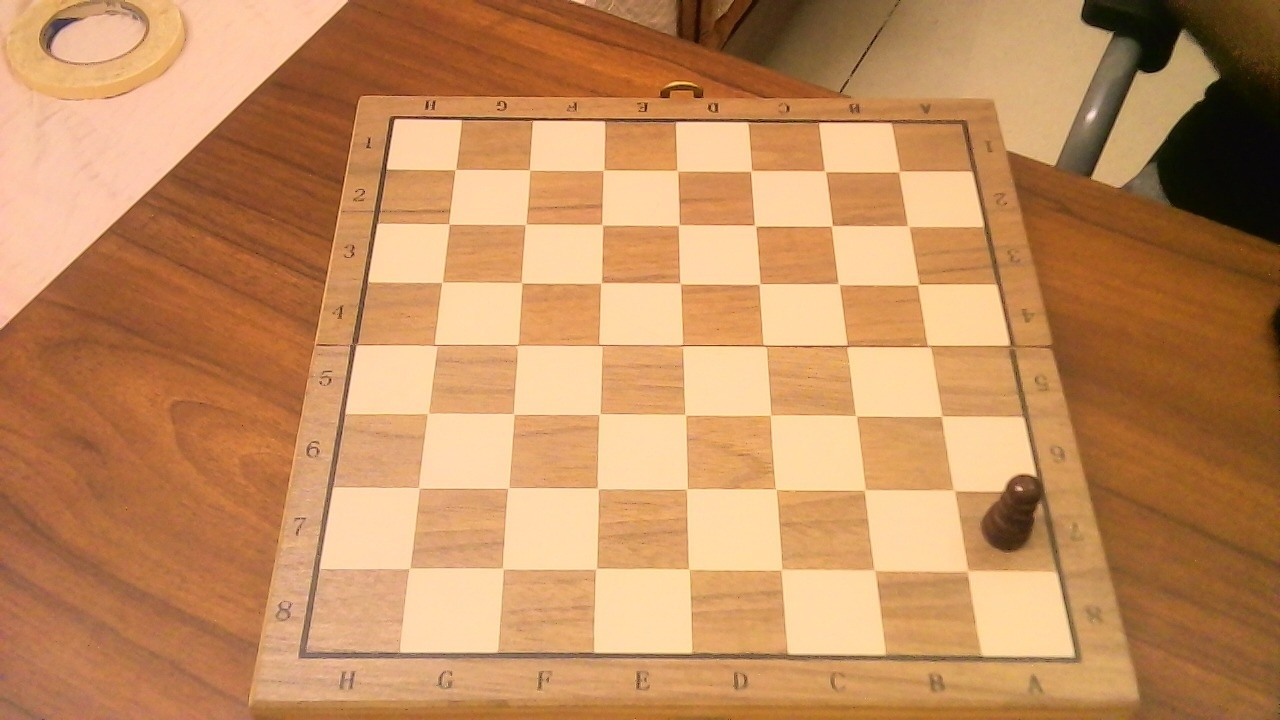p: (977, 461, 1054, 554)
